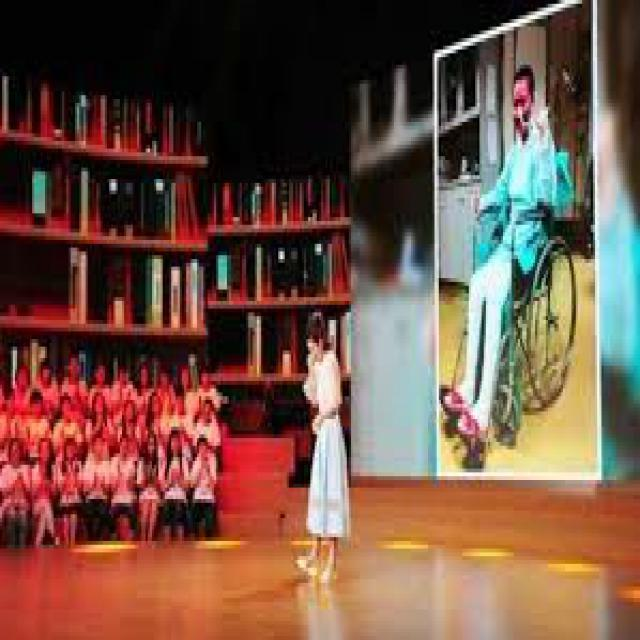wheelchairs: (462, 190, 578, 438)
